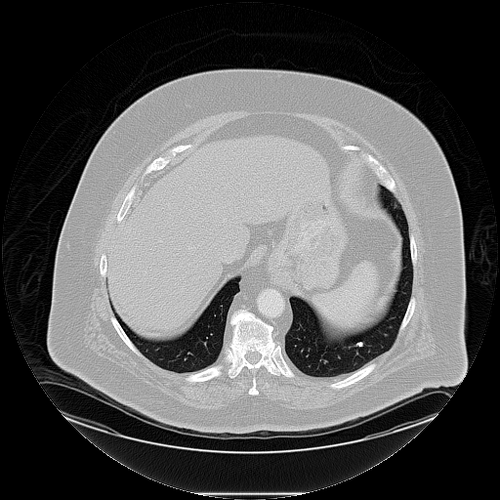nodule: (356, 341, 362, 347)
